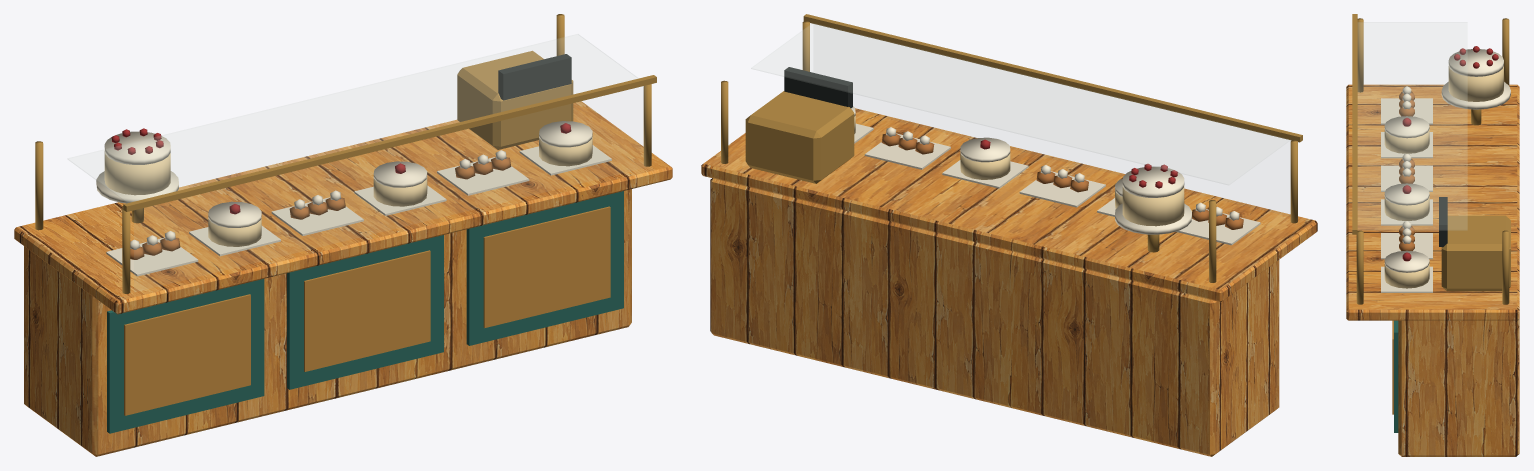
3 renders of one model, left to right at view 1: azimuth 30°, elevation 25°; view 2: azimuth 150°, elevation 25°; view 3: azimuth 270°, elevation 25°, orthographic. The views are drawn at different scales.
Visible parts, largest first — view 1: shop_oak, shop_bakery_trim, shop_clear_glass, shop_bakery_door, shop_brass, shop_paper, shop_cream, shop_crumb, shop_ink, shop_crust, shop_jam; view 2: shop_oak, shop_clear_glass, shop_brass, shop_paper, shop_cream, shop_crumb, shop_ink, shop_crust; view 3: shop_oak, shop_clear_glass, shop_brass, shop_cream, shop_paper, shop_crumb, shop_crust, shop_bakery_door, shop_jam, shop_ink.
Part boxes in pixels (x1=…): shop_oak: x1=14, y1=101, x2=672, y2=456; shop_bakery_trim: x1=124, y1=206, x2=610, y2=415; shop_clear_glass: x1=68, y1=34, x2=637, y2=202; shop_bakery_door: x1=107, y1=191, x2=623, y2=433; shop_brass: x1=35, y1=14, x2=656, y2=293; shop_paper: x1=106, y1=145, x2=611, y2=276; shop_cream: x1=96, y1=121, x2=592, y2=249; shop_crumb: x1=104, y1=135, x2=592, y2=246; shop_ink: x1=498, y1=54, x2=571, y2=100; shop_crust: x1=130, y1=157, x2=511, y2=259; shop_jam: x1=111, y1=123, x2=571, y2=214; shop_oak: x1=701, y1=108, x2=1317, y2=456; shop_clear_glass: x1=751, y1=23, x2=1290, y2=185; shop_brass: x1=721, y1=14, x2=1302, y2=282; shop_paper: x1=854, y1=123, x2=1260, y2=245; shop_cream: x1=851, y1=106, x2=1239, y2=234; shop_crumb: x1=854, y1=116, x2=1184, y2=226; shop_ink: x1=784, y1=67, x2=852, y2=108; shop_crust: x1=881, y1=133, x2=1243, y2=229; shop_oak: x1=1346, y1=84, x2=1519, y2=456; shop_clear_glass: x1=1358, y1=22, x2=1467, y2=230; shop_brass: x1=1352, y1=14, x2=1510, y2=304; shop_cream: x1=1384, y1=49, x2=1510, y2=272; shop_paper: x1=1381, y1=98, x2=1432, y2=292; shop_crumb: x1=1384, y1=66, x2=1503, y2=288; shop_crust: x1=1399, y1=91, x2=1414, y2=250; shop_bakery_door: x1=1394, y1=320, x2=1398, y2=432; shop_jam: x1=1402, y1=46, x2=1498, y2=261; shop_ink: x1=1439, y1=197, x2=1447, y2=246.
Size of the model in its own units: 3.1 by 1.44 by 1.
11 materials, 1 textured.
